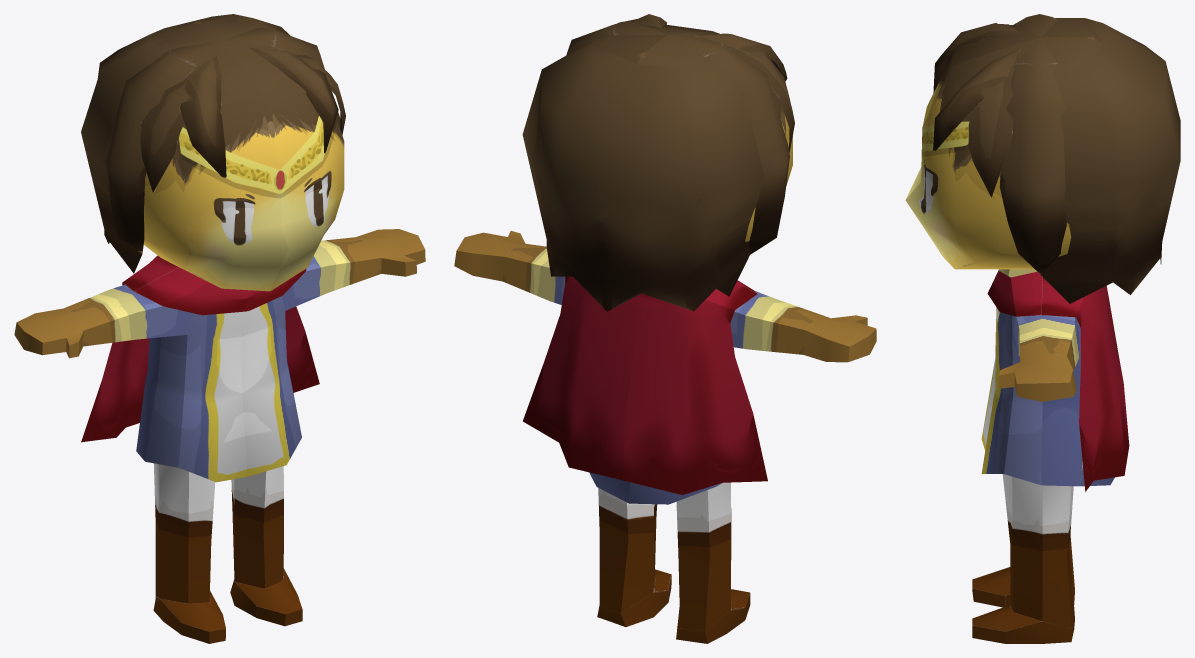
The model's file is braver.fbx.
3 renders of one model, left to right at view 1: azimuth 30°, elevation 25°; view 2: azimuth 150°, elevation 25°; view 3: azimuth 270°, elevation 25°, orthographic. The views are drawn at different scales.
Visible parts, largest first — view 1: polySurface1; view 2: polySurface1; view 3: polySurface1.
Boxes of the visible parts, x1,y1,x2,y2 form: polySurface1: (14,14,425,643); polySurface1: (454,14,876,643); polySurface1: (905,14,1180,643).
Size of the model in its own units: 3.42 by 4.72 by 2.03.
1 material, 1 textured.
